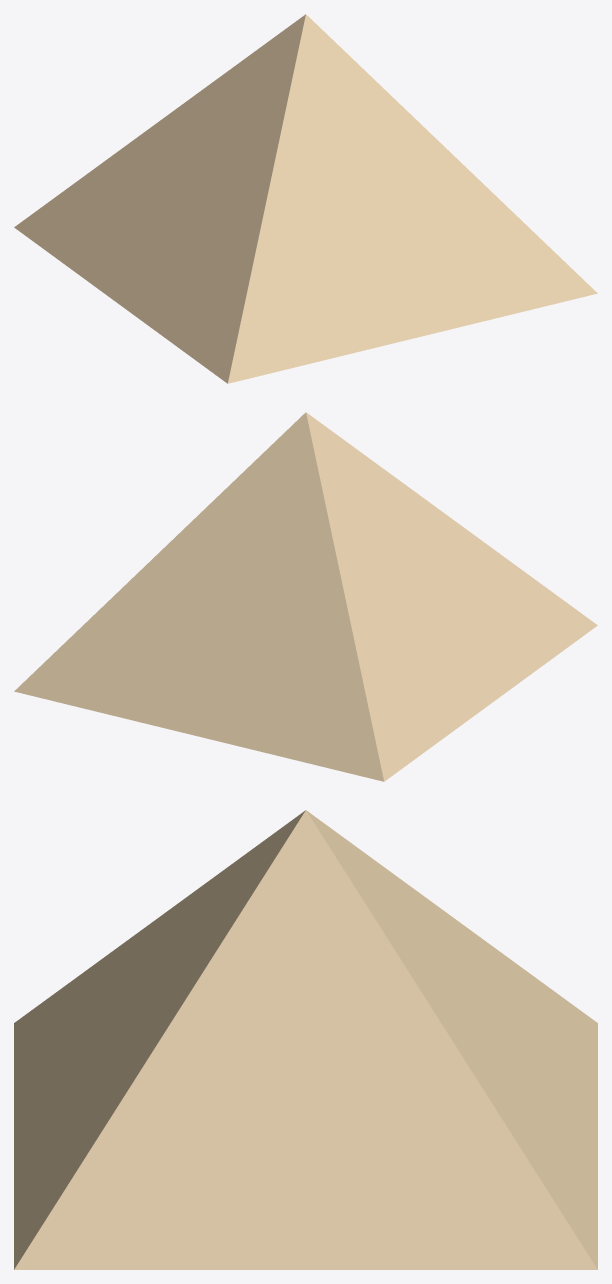
The model's file is KheopsPyrqamid_2.fbx.
The picture shows the model from 3 angles, top to bottom: view 1: azimuth 30°, elevation 25°; view 2: azimuth 150°, elevation 25°; view 3: azimuth 270°, elevation 25°; orthographic projection. The views are drawn at different scales.
Visible parts, largest first — view 1: Pyramide; view 2: Pyramide; view 3: Pyramide.
Part boxes in pixels (x1,y1,x2,y2): Pyramide: [14, 14, 597, 383]; Pyramide: [14, 412, 597, 781]; Pyramide: [14, 810, 597, 1269].
Size of what is drawn, in the model's own units: 230 by 147 by 230.
